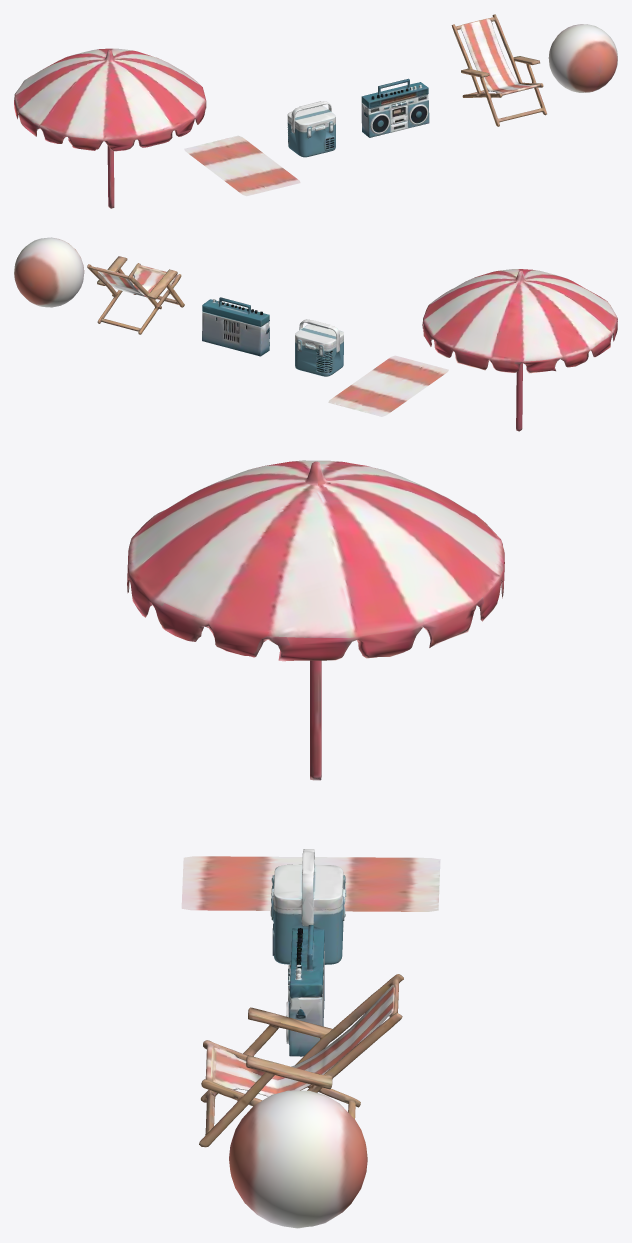
The model's file is beach.glb.
3 renders of one model, top to bottom at view 1: azimuth 30°, elevation 25°; view 2: azimuth 150°, elevation 25°; view 3: azimuth 270°, elevation 25°, orthographic. The views are drawn at different scales.
Visible parts, largest first — view 1: Beach umbrella, Beach chair, Beach ball, Beach towel, Beach boombox, Coolbox; view 2: Beach umbrella, Beach ball, Beach towel, Beach boombox, Beach chair, Coolbox; view 3: Beach umbrella, Beach ball, Beach chair, Beach towel, Coolbox, Beach boombox.
Part boxes in pixels (<box>): Beach umbrella: <box>14,48,206,208</box>; Beach chair: <box>451,14,546,126</box>; Beach ball: <box>548,24,617,92</box>; Beach towel: <box>184,135,300,196</box>; Beach boombox: <box>361,78,429,137</box>; Coolbox: <box>287,101,335,157</box>; Beach umbrella: <box>422,269,617,431</box>; Beach ball: <box>14,237,84,307</box>; Beach towel: <box>328,355,448,416</box>; Beach boombox: <box>202,297,269,356</box>; Beach chair: <box>87,256,184,334</box>; Coolbox: <box>295,319,343,376</box>; Beach umbrella: <box>127,460,504,780</box>; Beach ball: <box>229,1090,367,1228</box>; Beach chair: <box>199,974,403,1147</box>; Beach towel: <box>181,856,440,911</box>; Coolbox: <box>270,849,346,964</box>; Beach boombox: <box>286,925,324,1056</box>.
Size of the model in its own units: 12.48 by 3.24 by 3.51.
Materials: 4 (4 with a texture image).
